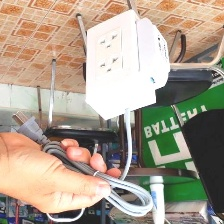three_eye_plug: (81, 6, 172, 124)
